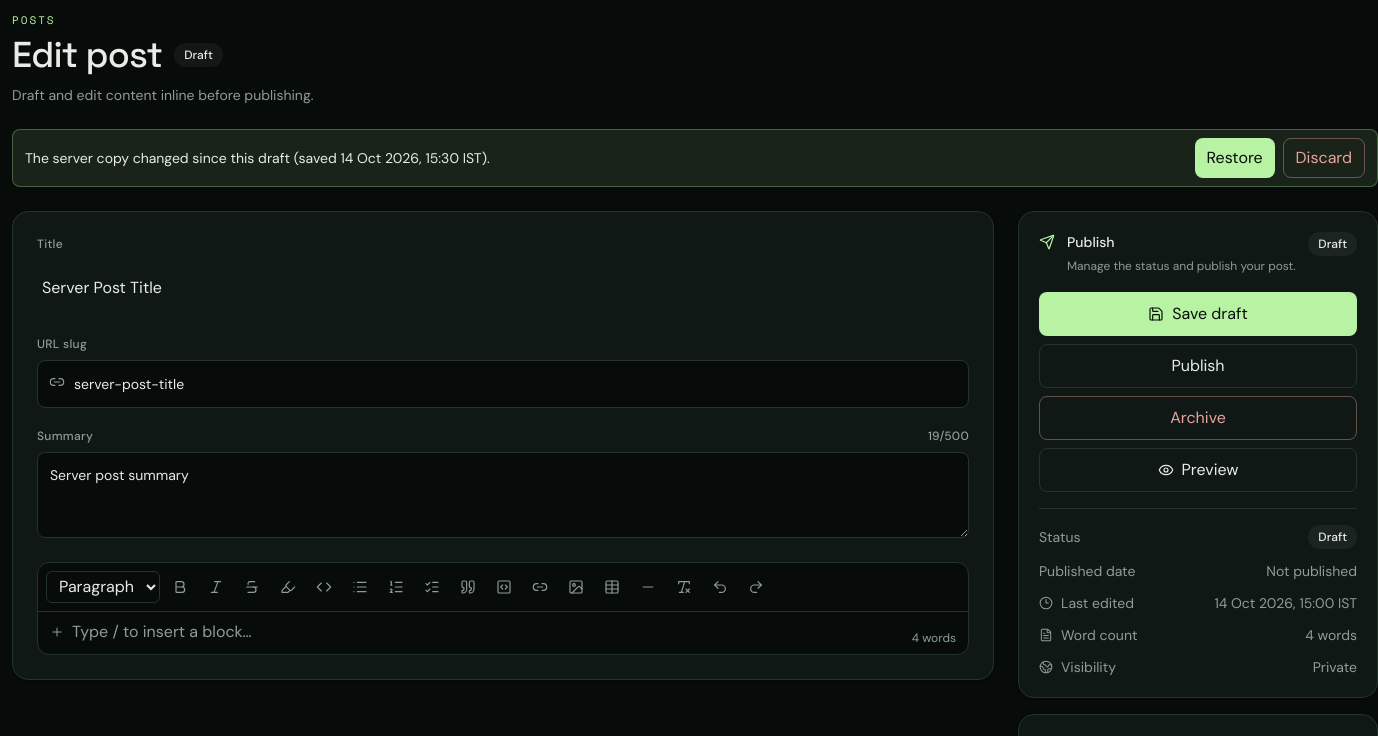
Test case: PostEditor flows › Item (1): Stale draft protection and baseVersion concurrency › sends the draft baseVersion on save so 409 stale_version shows conflict screen and never overwrites
Expected: the element named "Draft recovery" is shown, top-left (12, 128), bottom-right (1377, 186)
Expected: the text "The server copy changed since this draft (saved 14 Oct 2026, 15:30 IST)." is shown, top-left (25, 148), bottom-right (490, 168)
Click Restore
Click the button "Restore" at coordinates (1235, 158), box top-left (1195, 138), bottom-right (1275, 178)
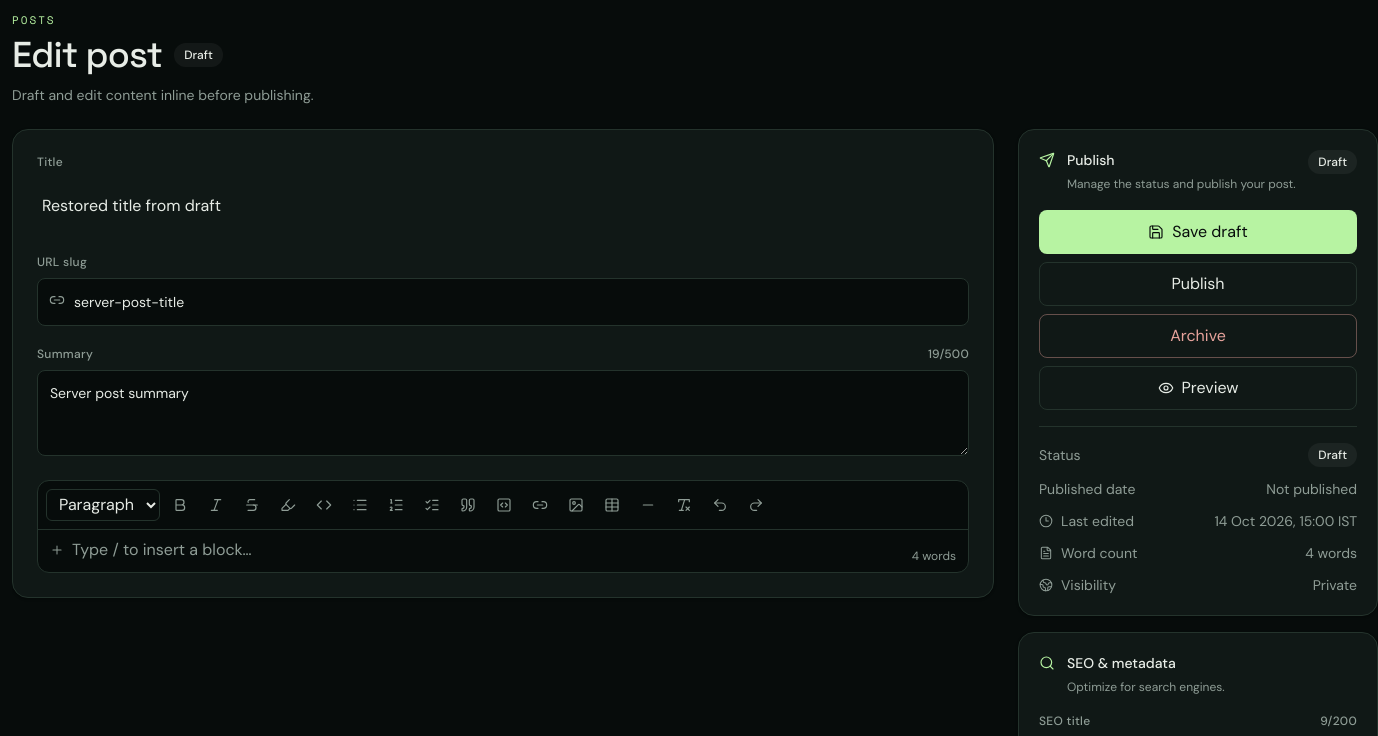
Result: the field showing "Restored title from draft" is shown at top-left (37, 178), bottom-right (969, 234)
Click Save draft
Click the button "Save draft" at coordinates (1198, 232), box top-left (1039, 210), bottom-right (1357, 254)
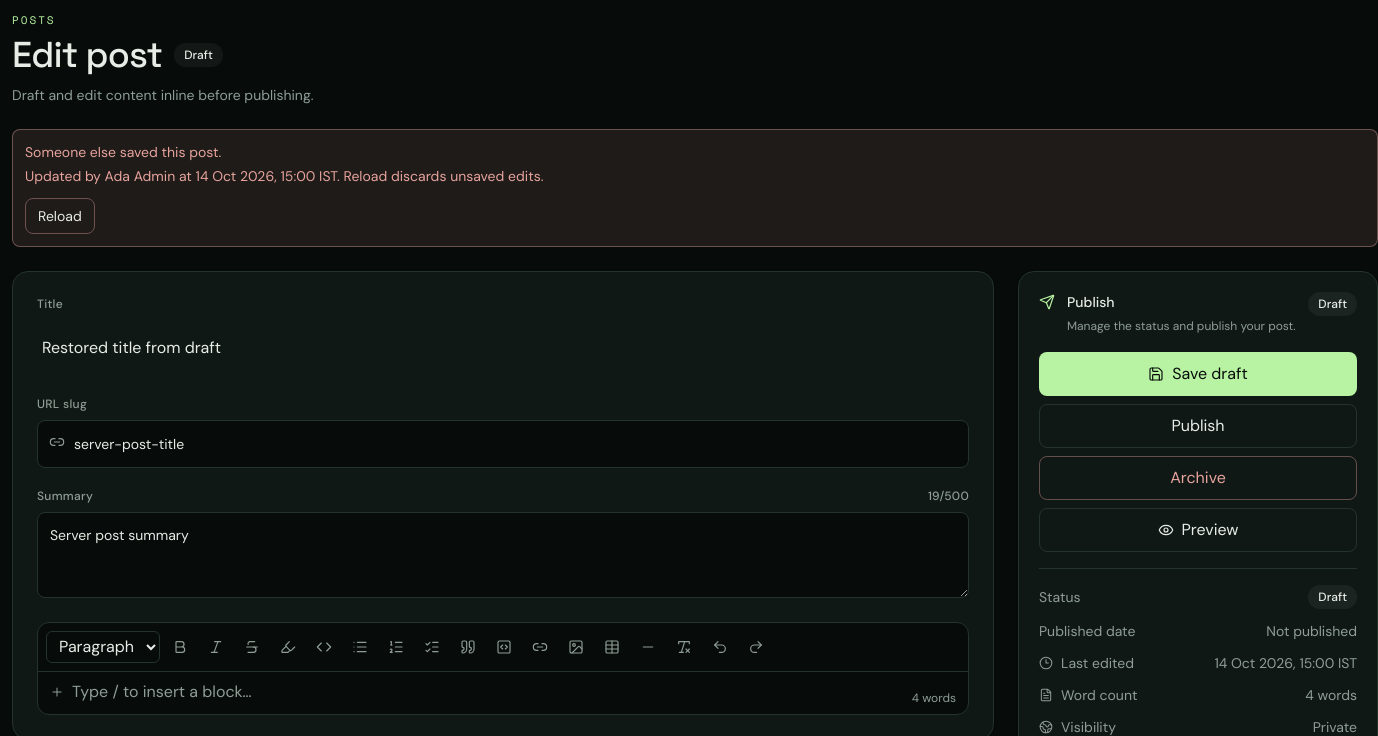
Result: the message is shown at top-left (12, 128), bottom-right (1377, 246)
Result: the message shows "Someone else saved this post." at top-left (25, 142), bottom-right (221, 160)
Result: the message shows "Updated by Ada Admin" at top-left (25, 166), bottom-right (175, 184)
